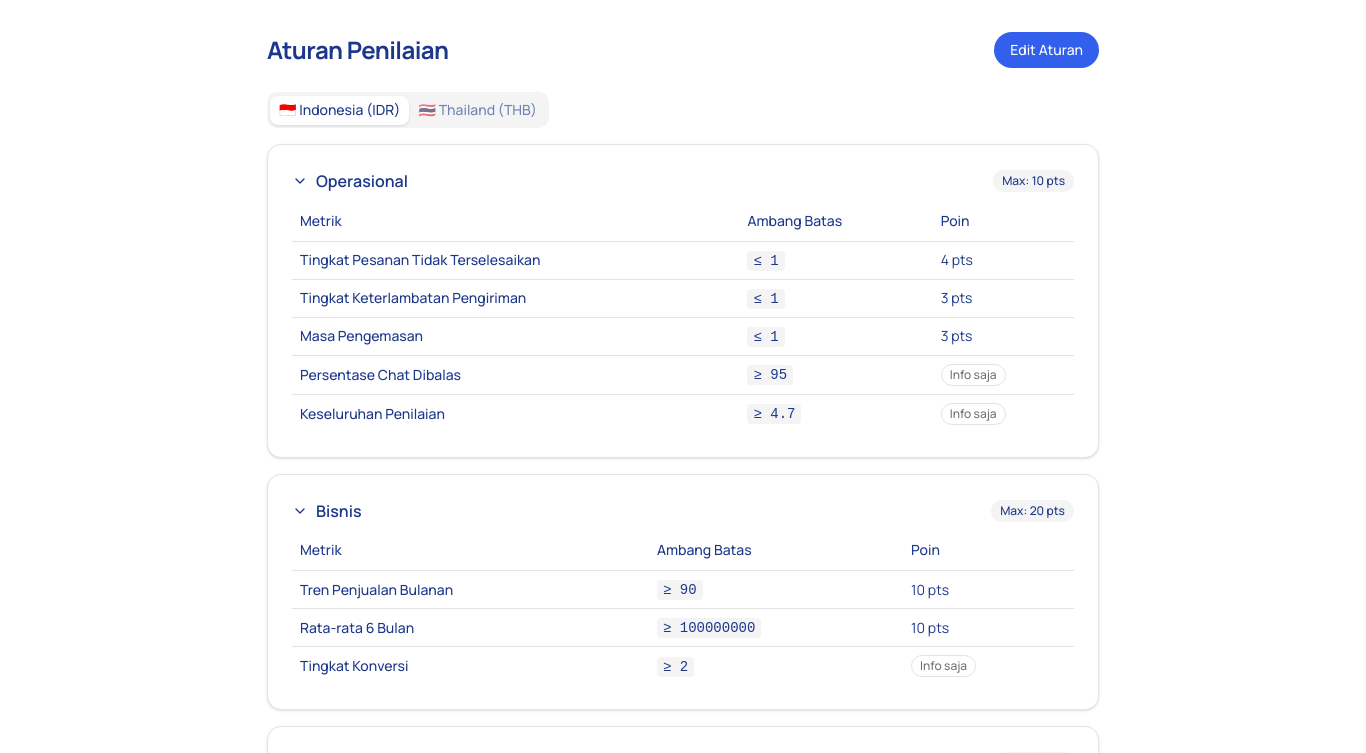
Scenario: Edit mode › opens password dialog on Save Changes
The width and height of the screenshot is (1366, 753).
Click the button "Edit Aturan" at x=1047, y=50, box [994, 32, 1099, 68]
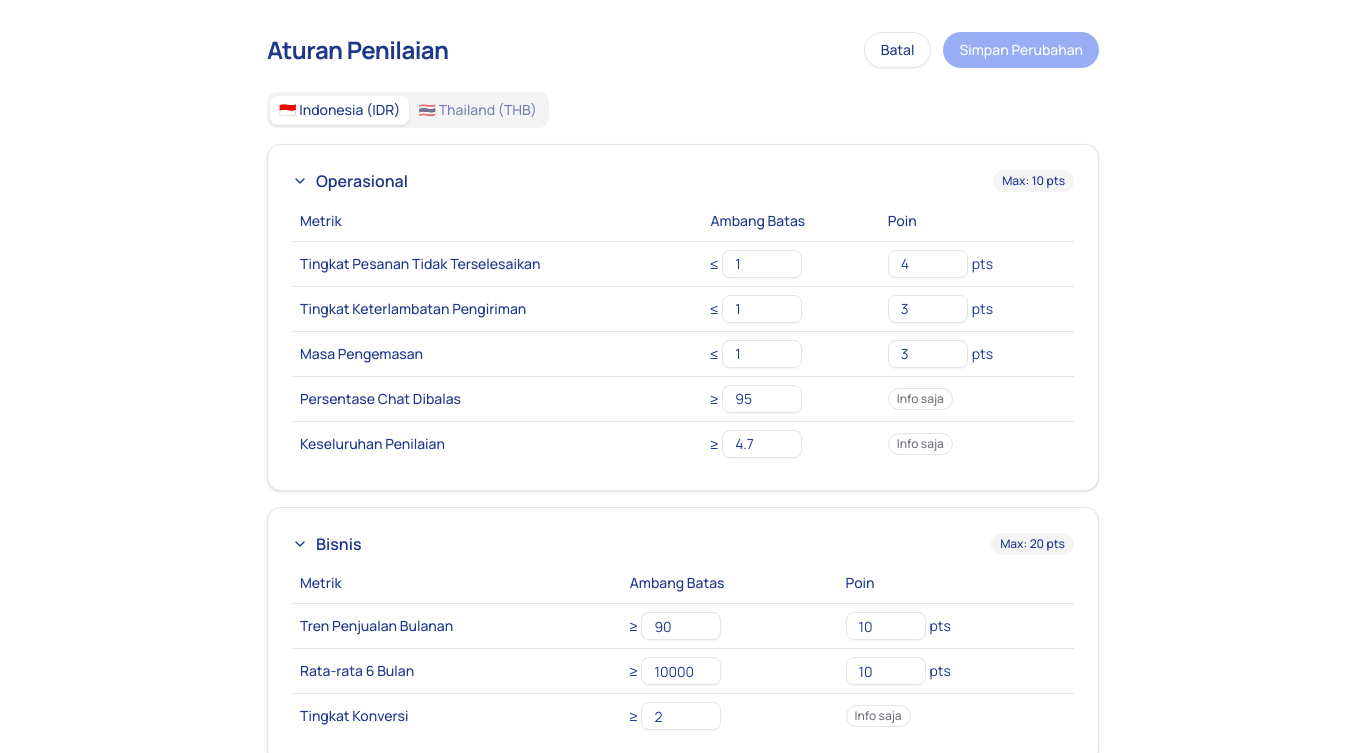
Replace the text in the number field named "unfulfilled_order_rate threshold" with "99" at x=762, y=264, box [722, 250, 802, 278]
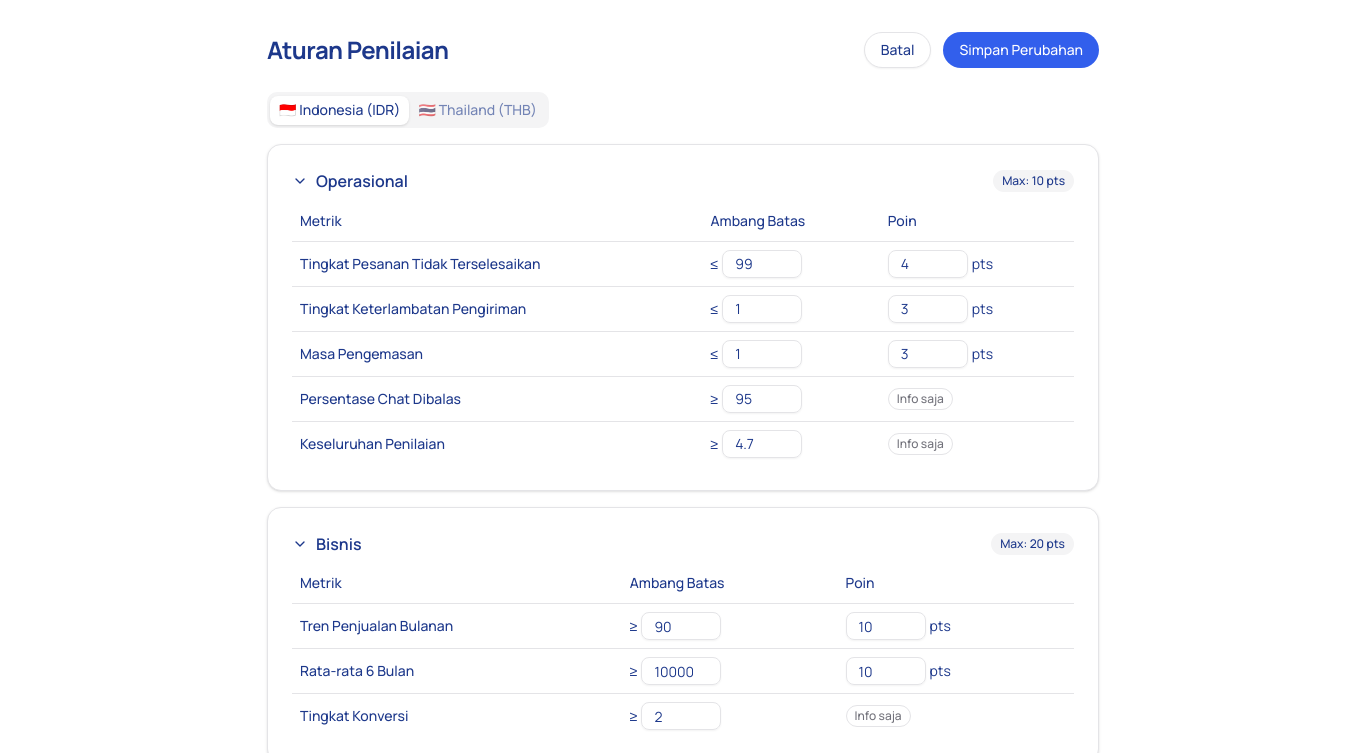
Click the button "Simpan Perubahan" at x=1021, y=50, box [944, 32, 1099, 68]
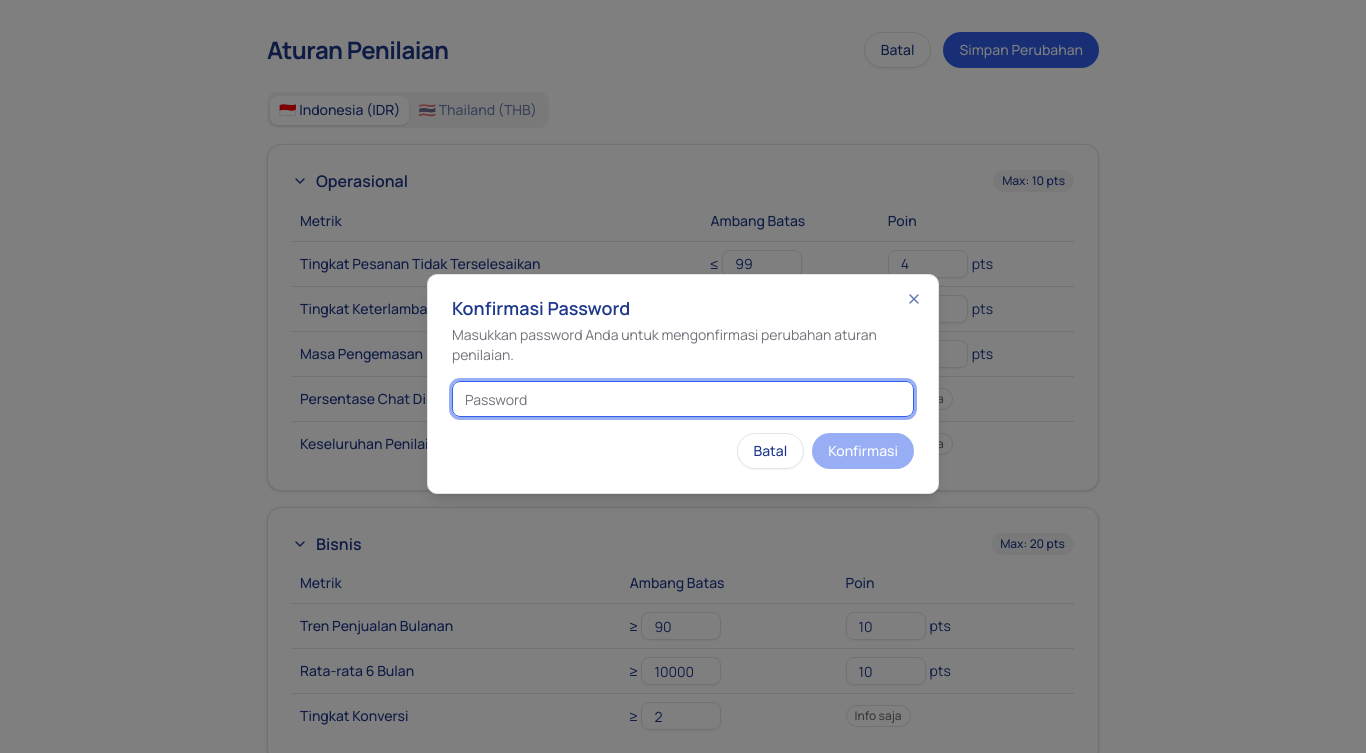
Check: the heading "Konfirmasi Password" is shown, box [452, 296, 630, 320]
Check: the password field labelled "Password" is shown, box [452, 381, 914, 417]
